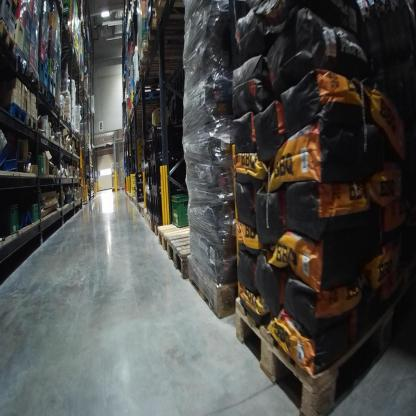pallet: (231, 283, 412, 414), (187, 253, 266, 326), (140, 17, 207, 61), (135, 48, 207, 86), (167, 233, 198, 288), (158, 221, 193, 256), (151, 1, 196, 26), (51, 10, 73, 43), (6, 101, 30, 131), (2, 19, 18, 63), (15, 46, 29, 78), (25, 60, 39, 90), (52, 1, 68, 17), (45, 90, 56, 109), (153, 220, 162, 242), (38, 83, 48, 102), (57, 106, 67, 125), (29, 114, 38, 133), (51, 94, 58, 116), (147, 214, 154, 233), (143, 202, 149, 222)
